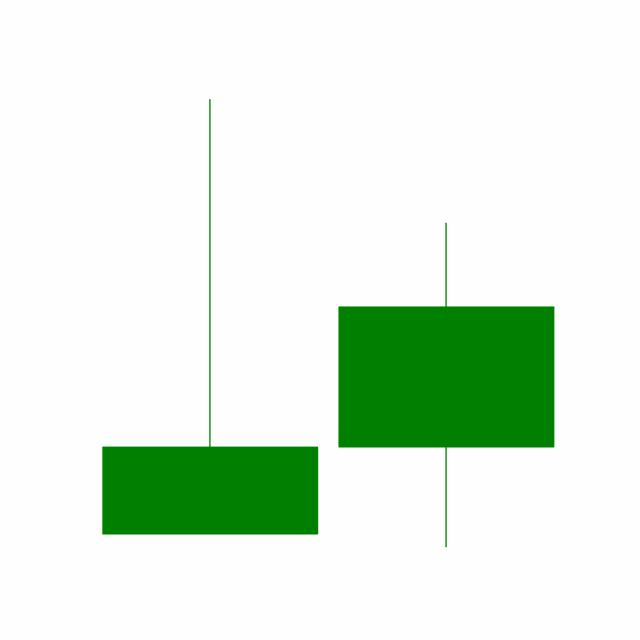Marubozu: (327, 218, 565, 550)
